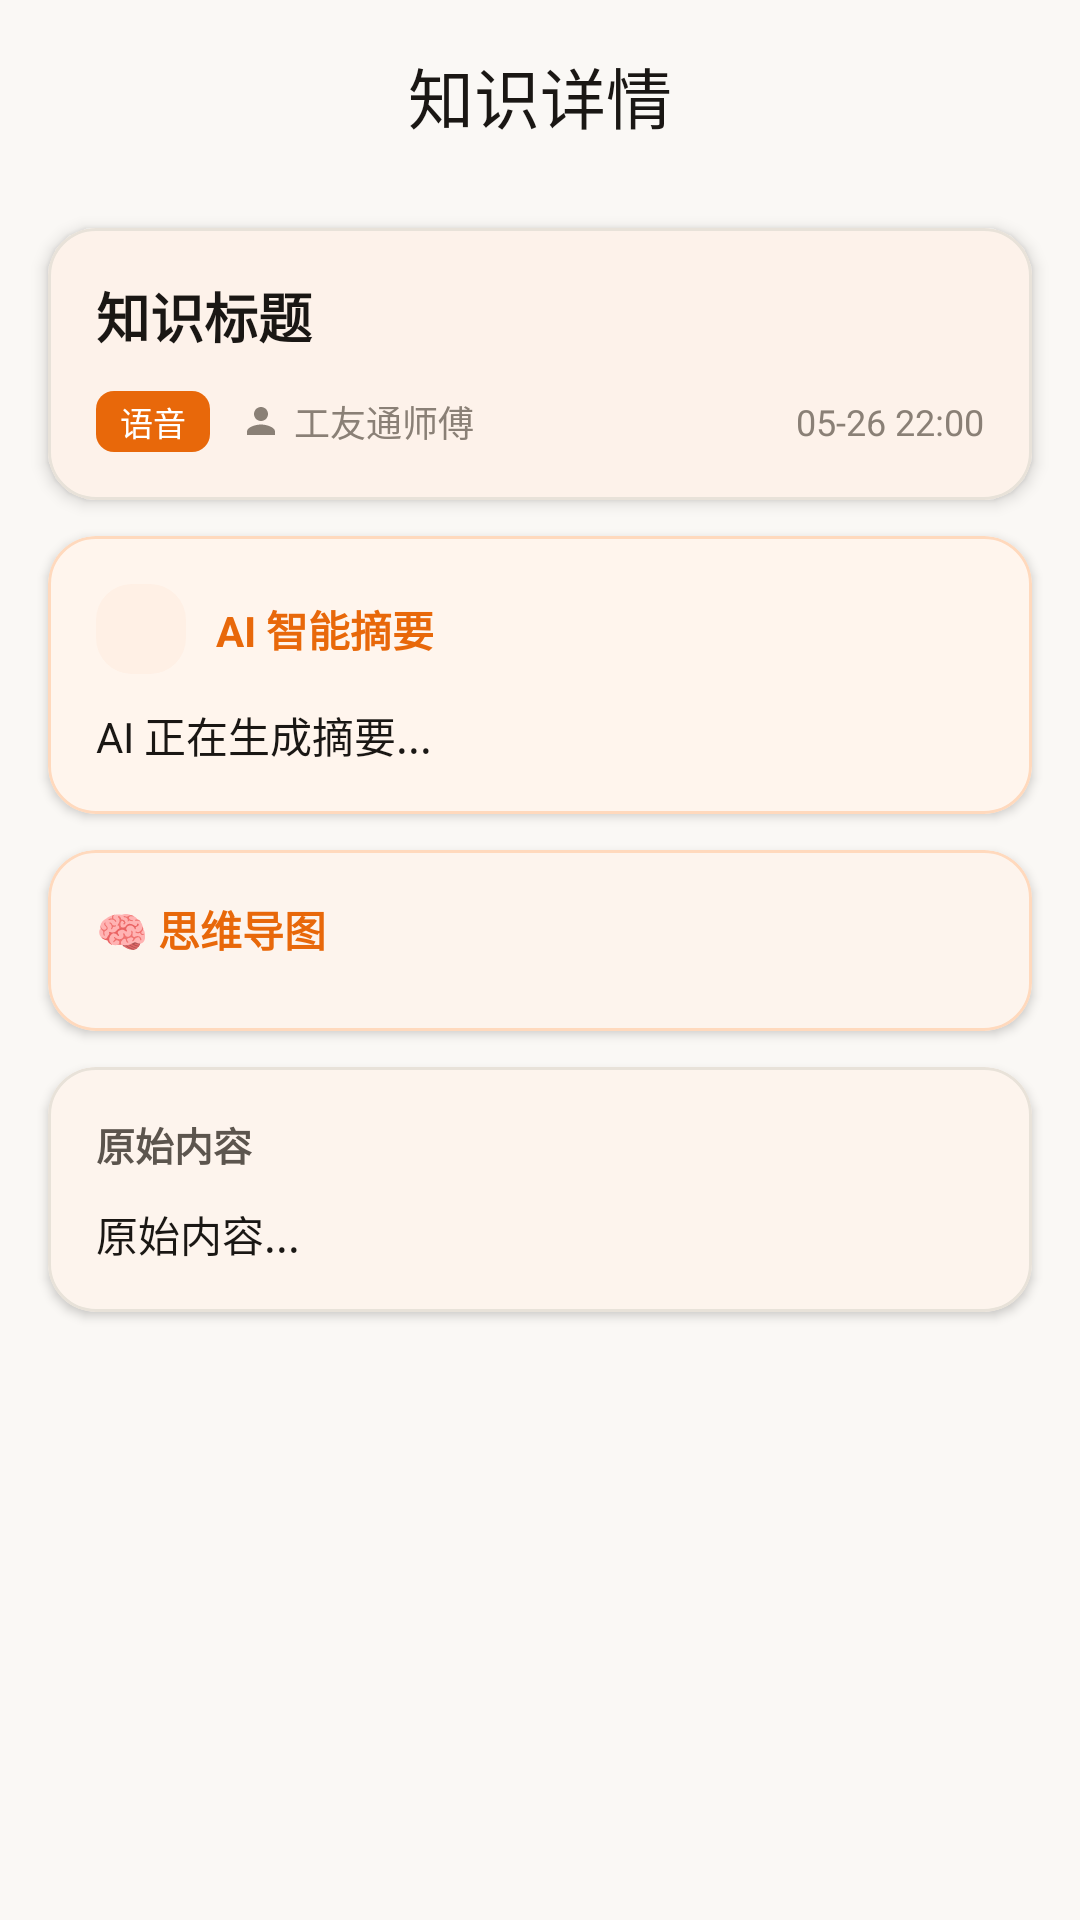

Named icons in this screenshot (1080×1920) and their centers, point (x, y):
profile: point (261, 421)
